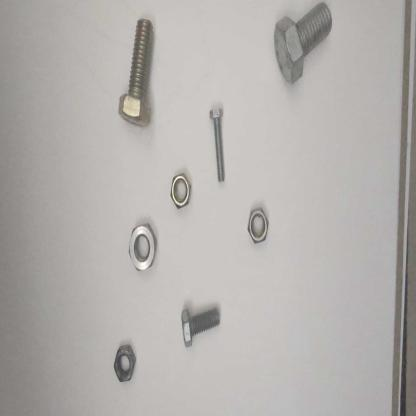Bolts: (264, 1, 340, 88), (114, 10, 159, 140), (178, 300, 223, 352), (207, 103, 230, 187)
NUTS: (124, 219, 160, 277), (107, 341, 143, 389), (245, 202, 272, 251), (167, 170, 197, 213)
